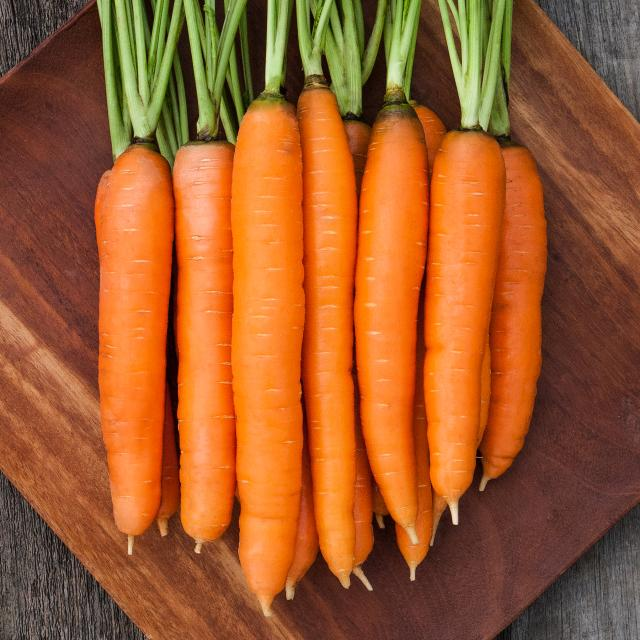Fresh_Carrot: (235, 96, 318, 596), (283, 91, 359, 583), (158, 148, 254, 530), (356, 123, 432, 551), (91, 149, 171, 555), (427, 133, 507, 484)
